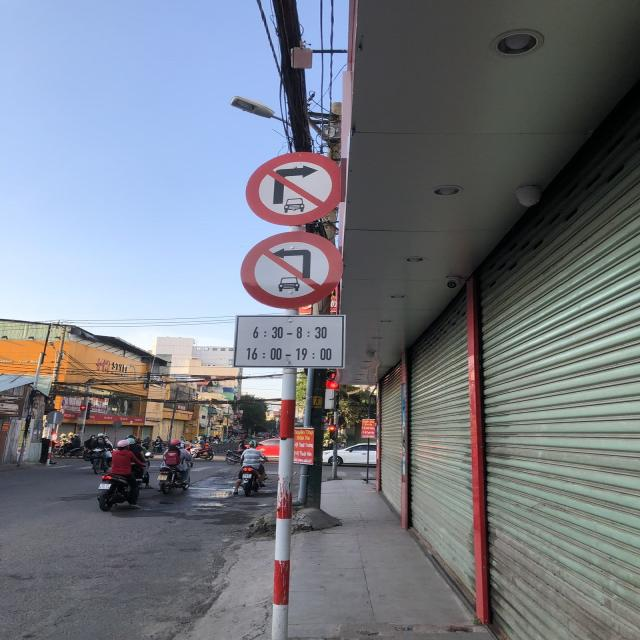Bien bao cam xe o to re phai: (234, 145, 353, 225)
Bien bao cam xe o to re trai: (235, 224, 344, 309)
